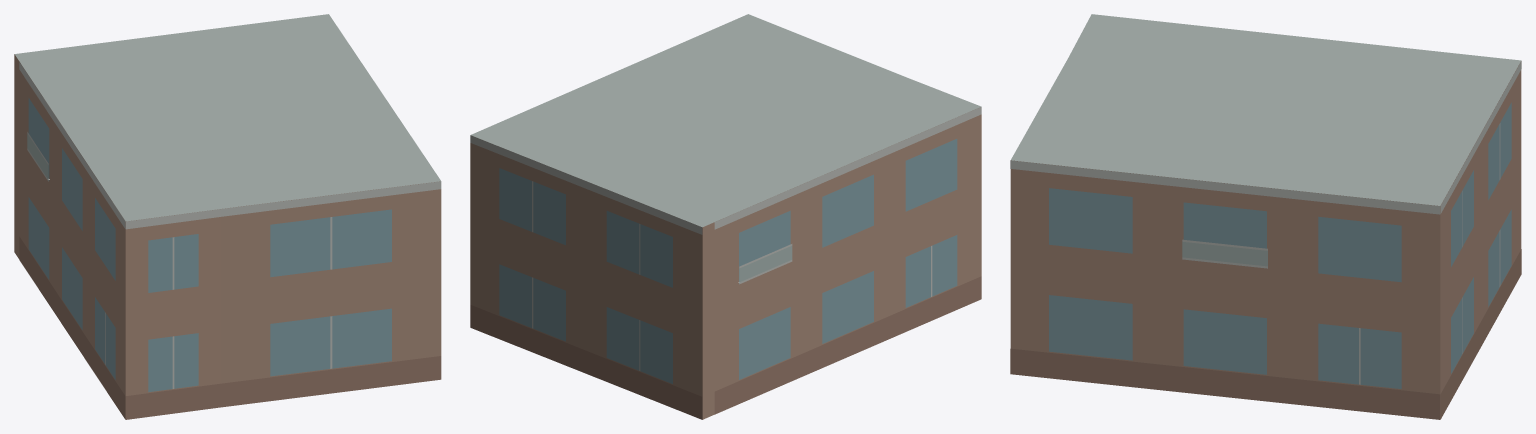
The model's file is survey-upis-32586652.glb.
The picture shows the model from 3 angles, left to right: view 1: azimuth 30°, elevation 25°; view 2: azimuth 150°, elevation 25°; view 3: azimuth 270°, elevation 25°; orthographic projection. The views are drawn at different scales.
Visible parts, largest first — view 1: survey-upis-32586652.tmp; view 2: survey-upis-32586652.tmp; view 3: survey-upis-32586652.tmp.
Boxes of the visible parts, box(x1,y1,x2,y2) form: survey-upis-32586652.tmp: box(14, 14, 441, 419); survey-upis-32586652.tmp: box(470, 14, 981, 419); survey-upis-32586652.tmp: box(1010, 14, 1521, 419).
Bounding box in the file's own units: 11.76 × 6.1 × 13.22.
